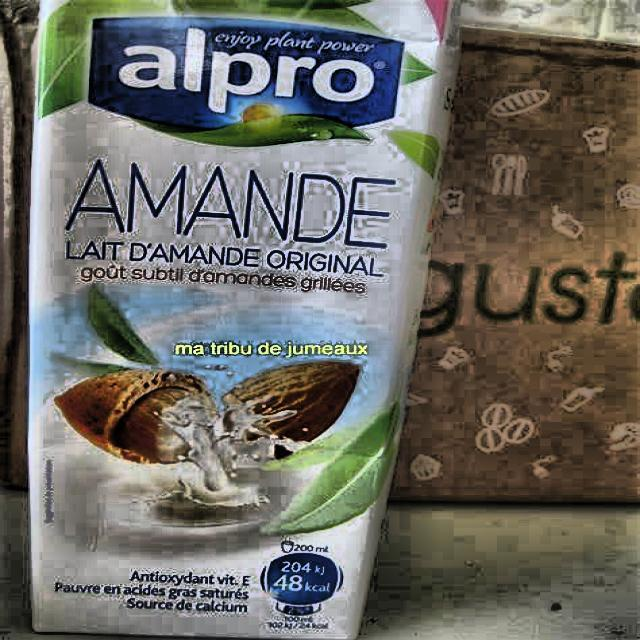cardboard: (22, 0, 456, 638), (388, 20, 638, 505)
